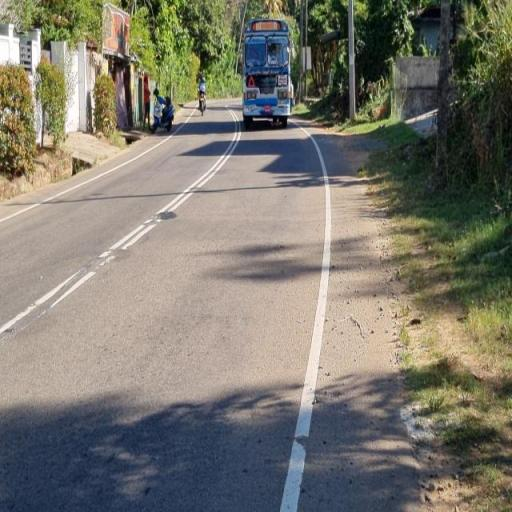double_white_line: (98, 107, 240, 264), (2, 265, 94, 336)
